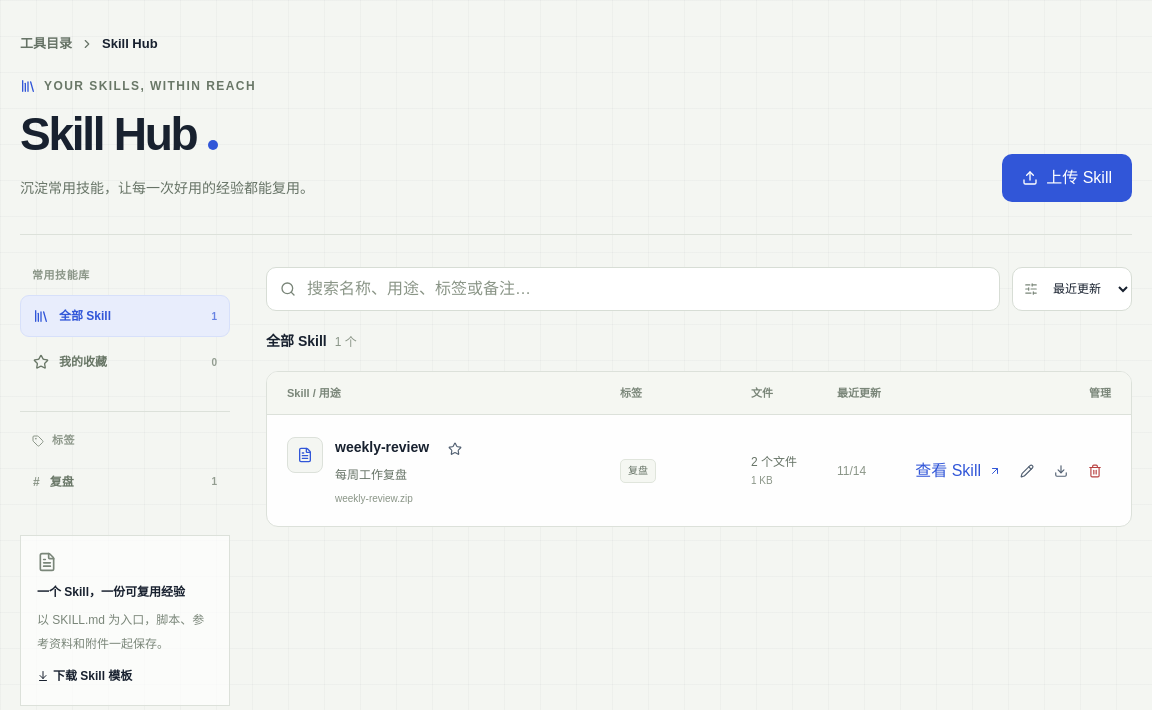
it: Skill Hub interactions › persists favorites and deletes only after confirmation
Click the button named "收藏 weekly-review". click: (455, 449)
box: [441, 435, 469, 463]
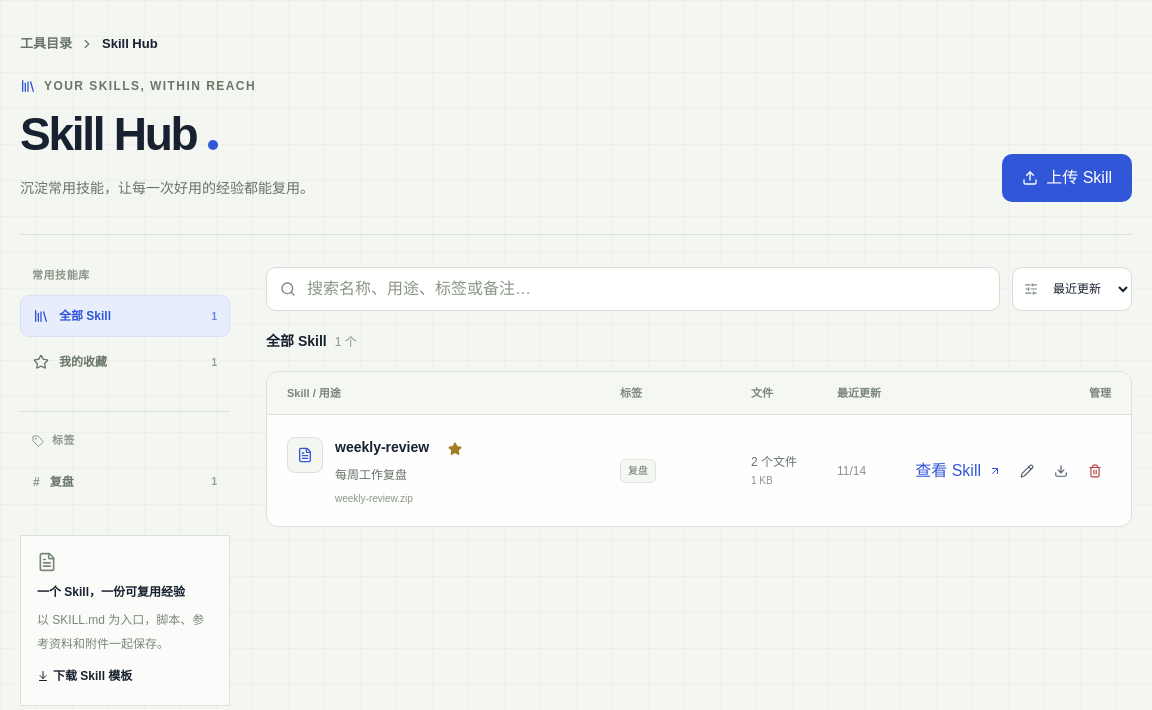
expect the button named "取消收藏 weekly-review" is pressed: met, box [441, 435, 469, 463]
Click the button named "删除 weekly-review". click: (1095, 471)
box: [1079, 455, 1111, 487]
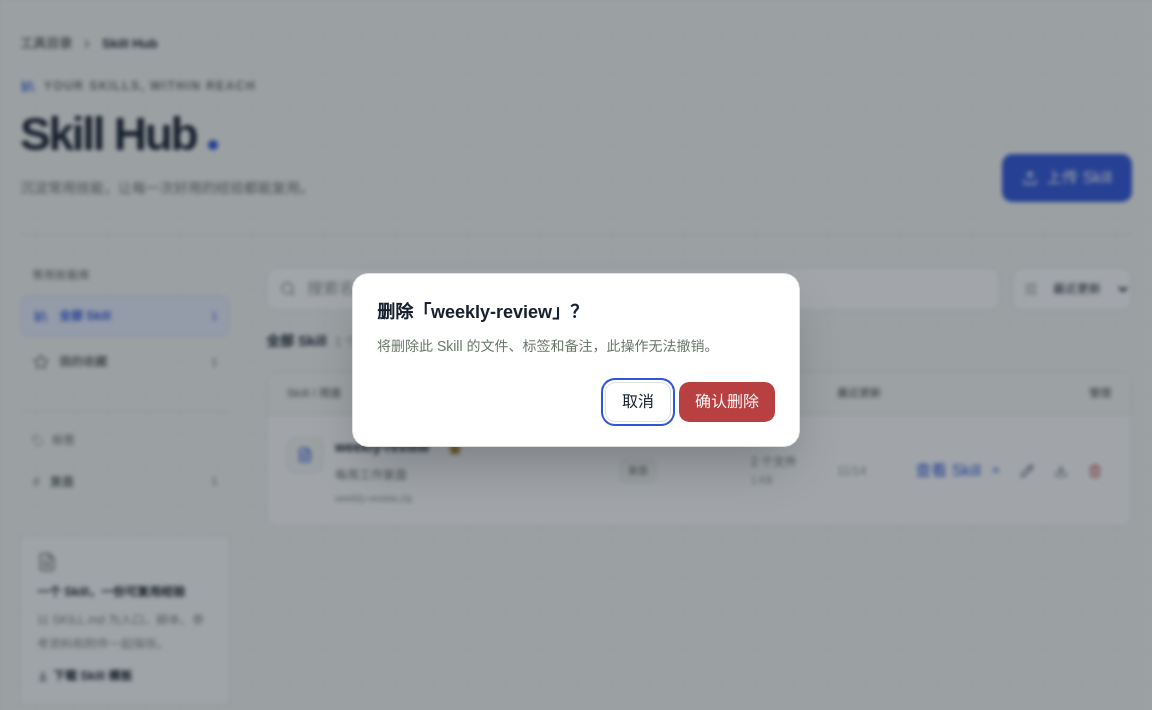
Click the button "确认删除". click: (727, 402)
box: [679, 382, 775, 422]
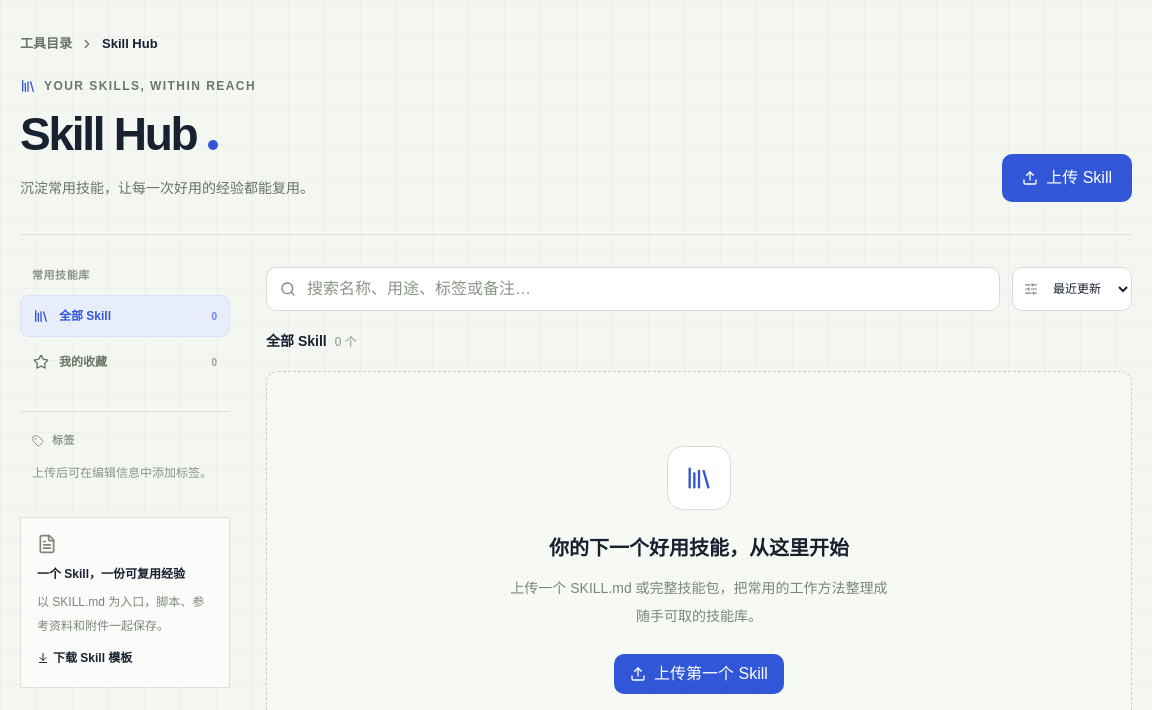
expect the heading "你的下一个好用技能，从这里开始" is shown: met, box [549, 534, 849, 562]
